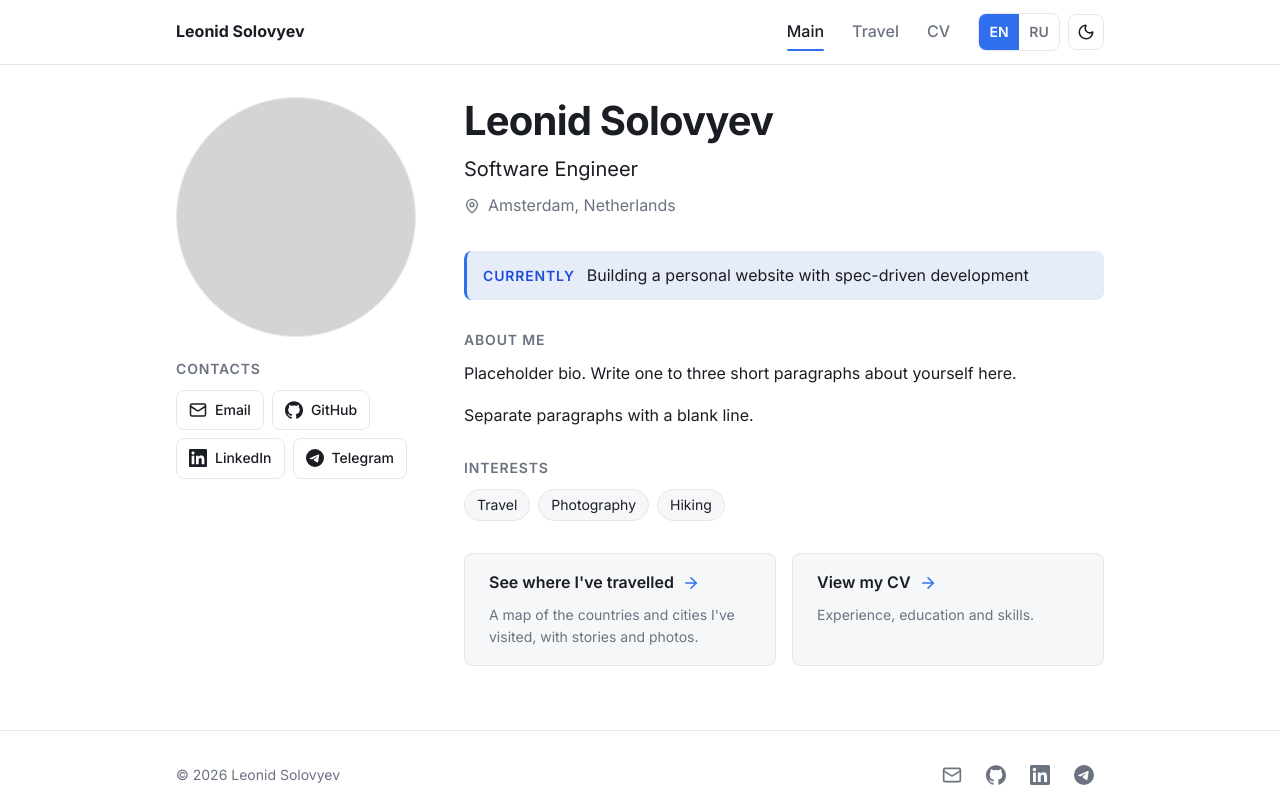
Scenario: theme toggle › has a descriptive label that flips with the theme
Click the button named "Switch to dark theme": (1086, 32) [1068,14,1104,50]
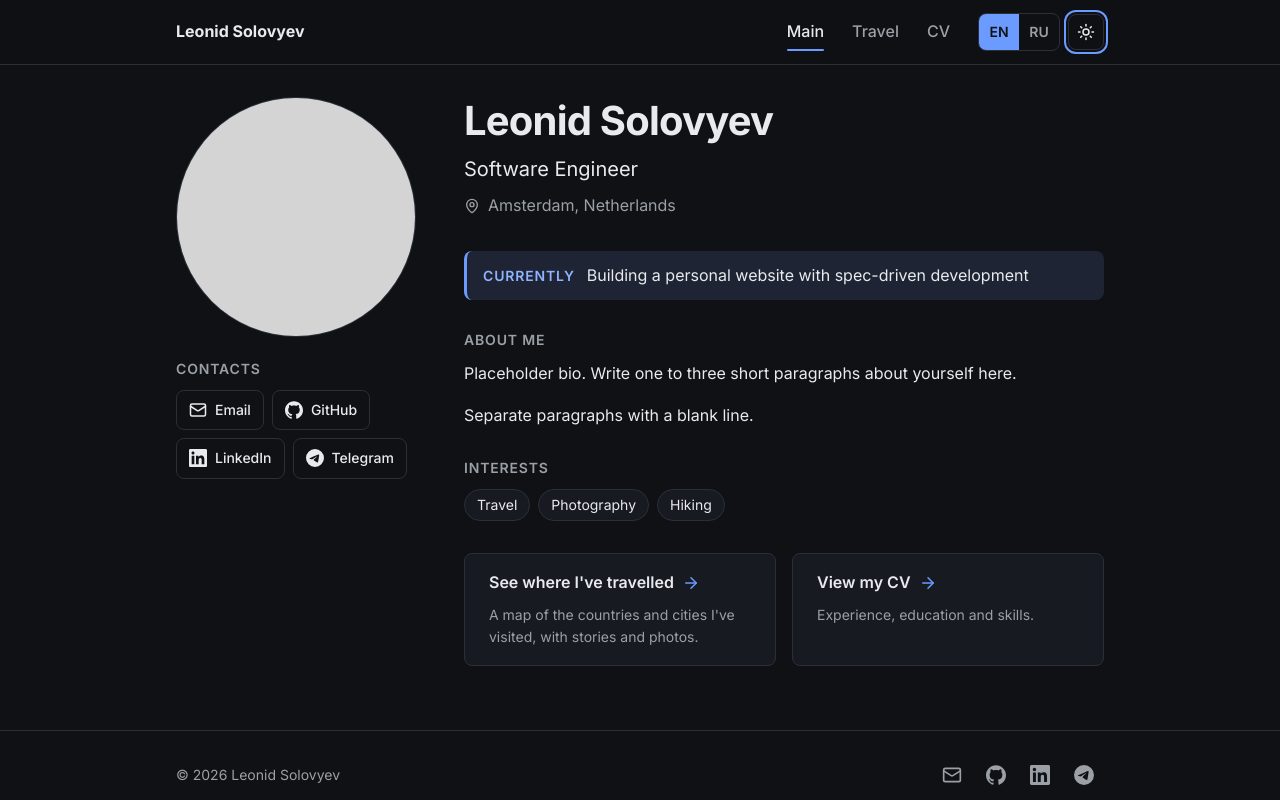
Expected: the button named "Switch to light theme" is shown, [1068,14,1104,50]
